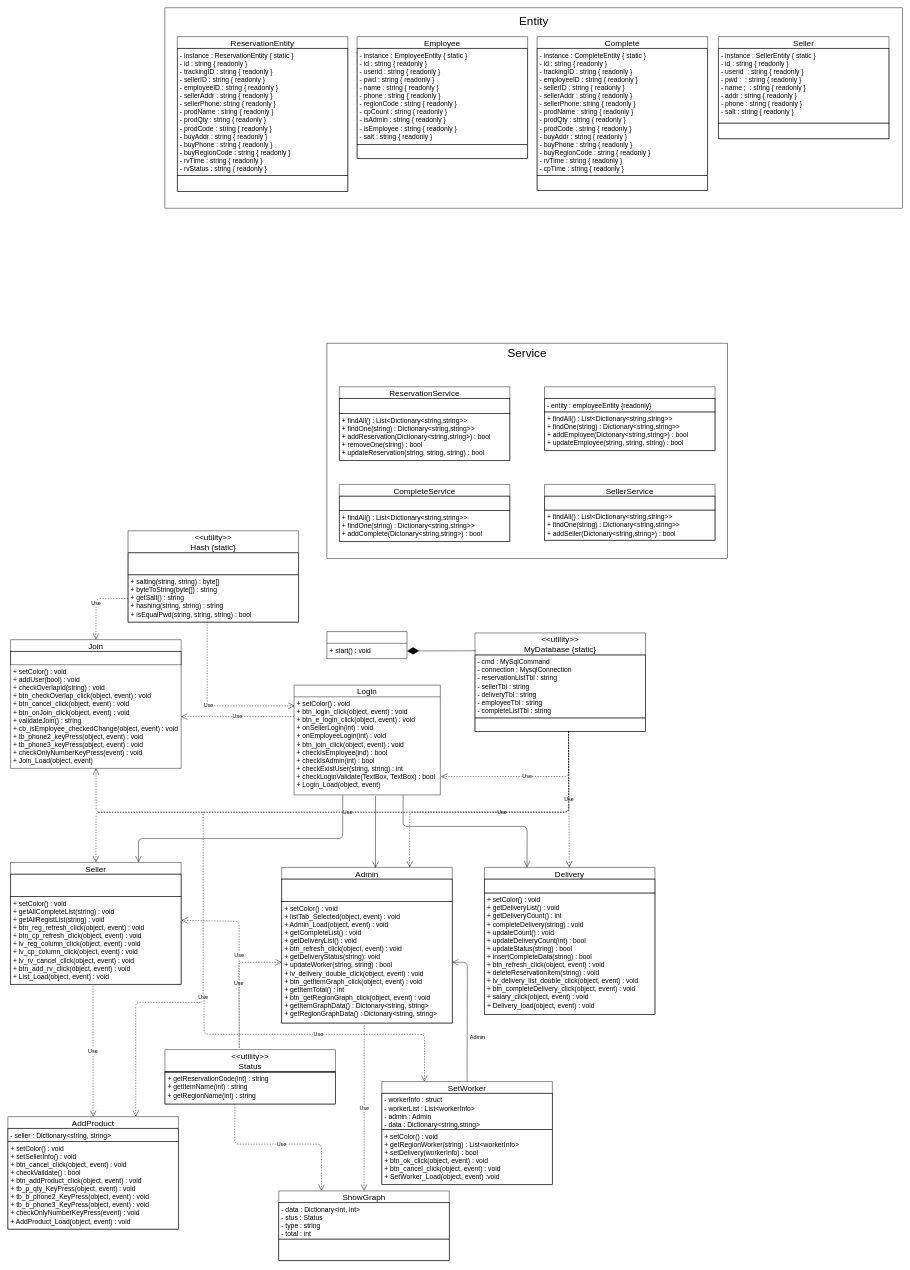
The diagram is 910 pixels wide and 1270 high, and some of its shapes have lost their labels. Each missing label, with the box of its shape:
+ getComplete() : CompleteEntity: (537, 175, 708, 191)
+ getEmployee() : EmployeeEntity: (357, 144, 528, 159)
+ getReservation() : ReservationEntity: (177, 175, 348, 191)
+ getSeller() : SellerEntity: (718, 123, 889, 139)
+ onConnect() : void: (475, 718, 646, 731)
+ setColor() : void + ShowGraph_Load(object, event) : void: (278, 1239, 449, 1261)
- entity : completeEntity {readonly}: (339, 496, 510, 511)
- entity : reservationEntity {readonly}: (339, 398, 510, 413)
- entity : sellerEntity {readonly}: (544, 496, 715, 510)
- id : string: (484, 879, 655, 893)
- id : string - stus : Status: (281, 879, 452, 902)
- isCoreectID : bool: (10, 651, 181, 665)
- minSaltLen : int {const} - maxSaltLen : int {const}: (128, 552, 299, 575)
- userid : int - stus : Status: (10, 874, 181, 897)
EmployeeService: (544, 386, 715, 451)
Main: (326, 631, 407, 659)
